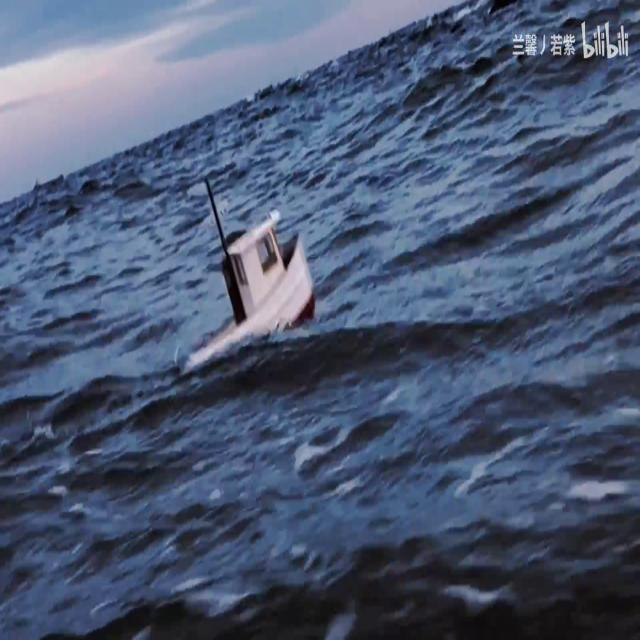houseboat: (176, 178, 308, 374)
